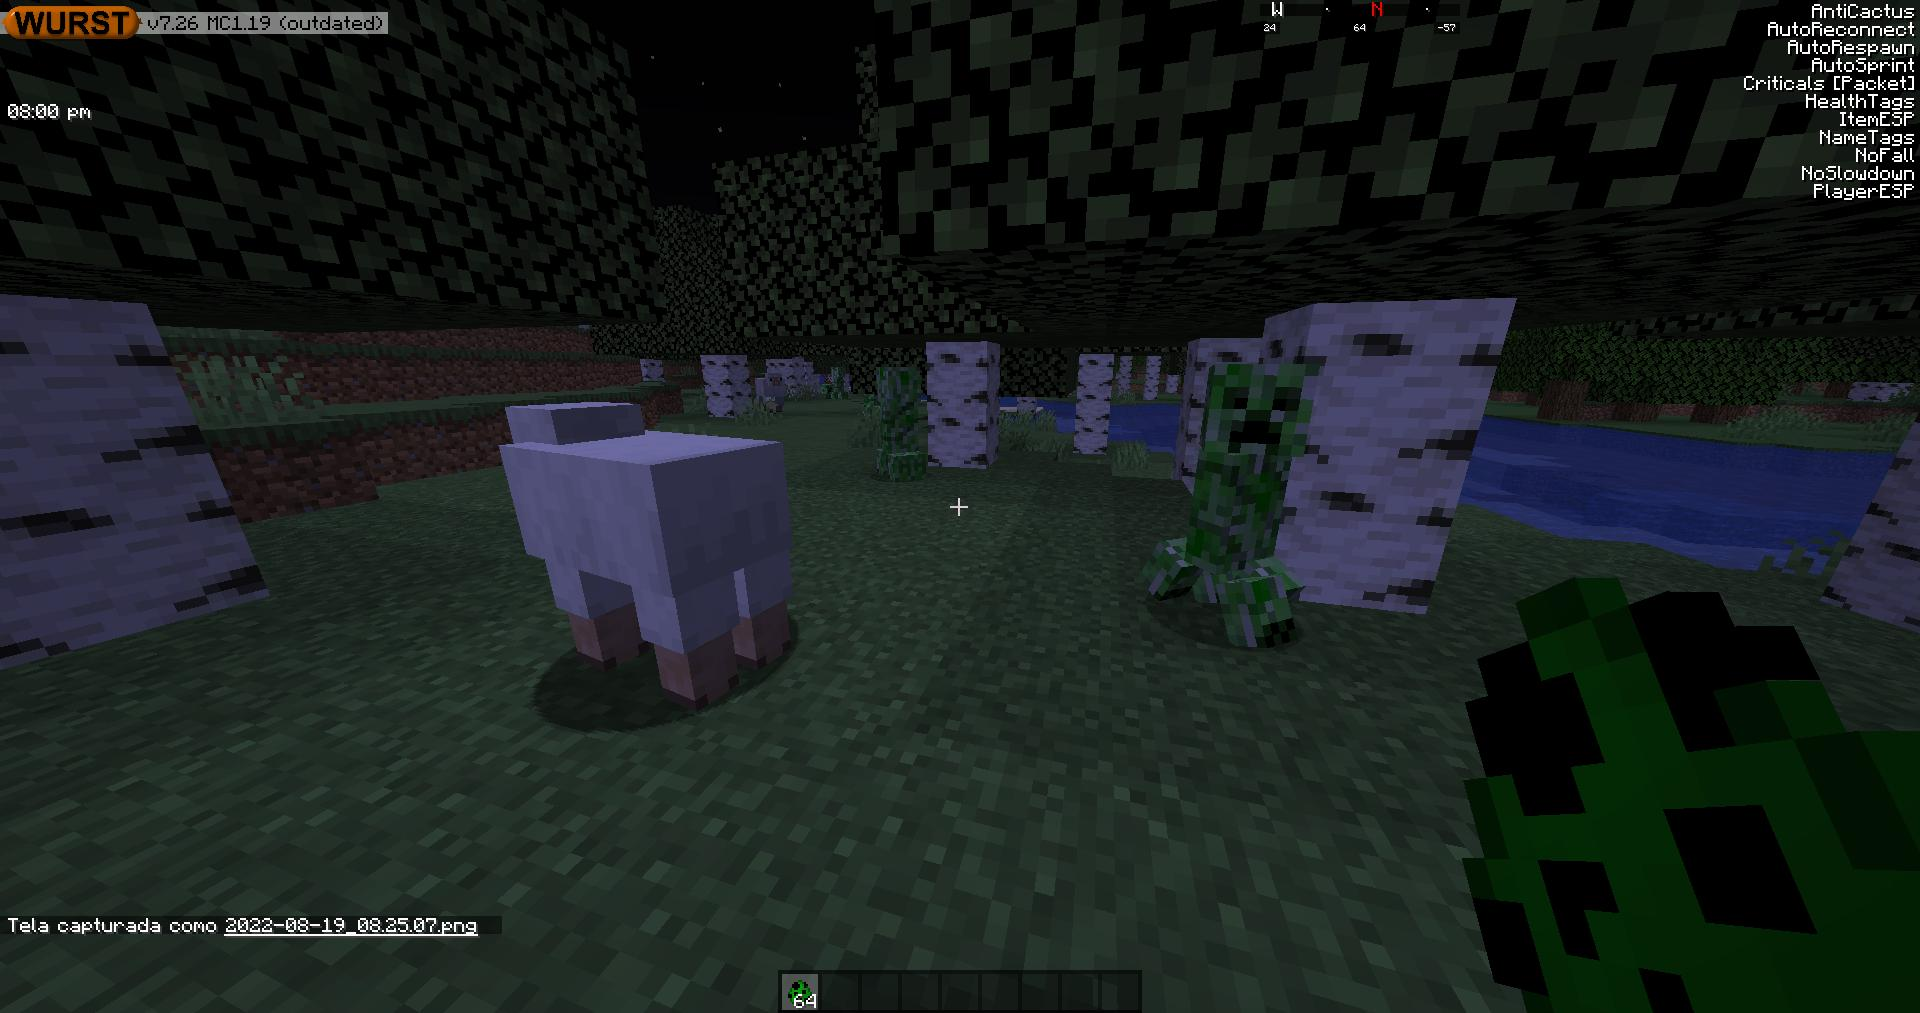creeper: (1177, 361, 1314, 652), (869, 362, 932, 484)
